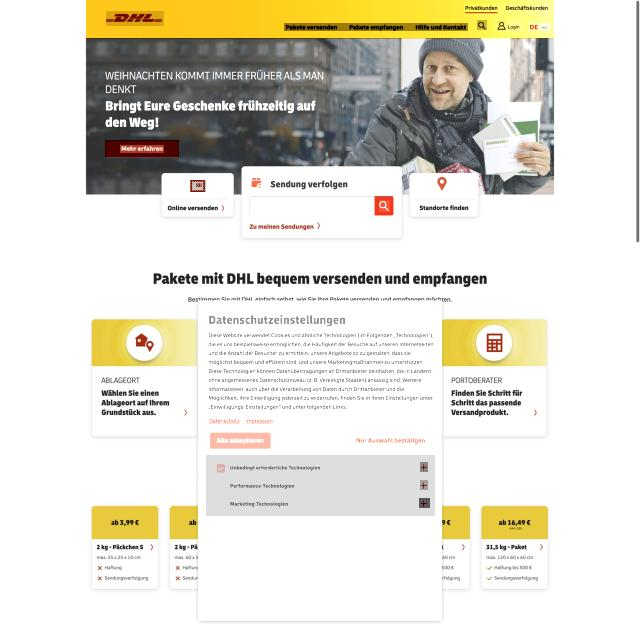CheckBox: (349, 432, 432, 450), (105, 140, 179, 157), (210, 432, 270, 449), (374, 196, 394, 216), (495, 19, 523, 32), (529, 23, 550, 31), (215, 498, 226, 509), (216, 462, 226, 474), (216, 481, 226, 490)
CheckedTextView: (250, 197, 394, 216)
ImageButton: (206, 455, 435, 516)
bag: (86, 0, 554, 39)
breadcrumbs: (207, 314, 346, 328)
card: (86, 39, 554, 194)
carousel: (250, 176, 264, 190), (190, 180, 206, 192), (438, 178, 450, 194), (379, 200, 390, 212), (419, 498, 430, 508), (477, 20, 487, 30), (497, 20, 506, 31), (420, 462, 428, 472), (420, 480, 428, 490), (540, 24, 549, 30)
data feed: (120, 145, 164, 153)
date picker: (105, 11, 163, 26)
decoration: (284, 23, 468, 31), (464, 4, 550, 15)
footer: (255, 202, 338, 210)
header: (198, 300, 442, 621)
